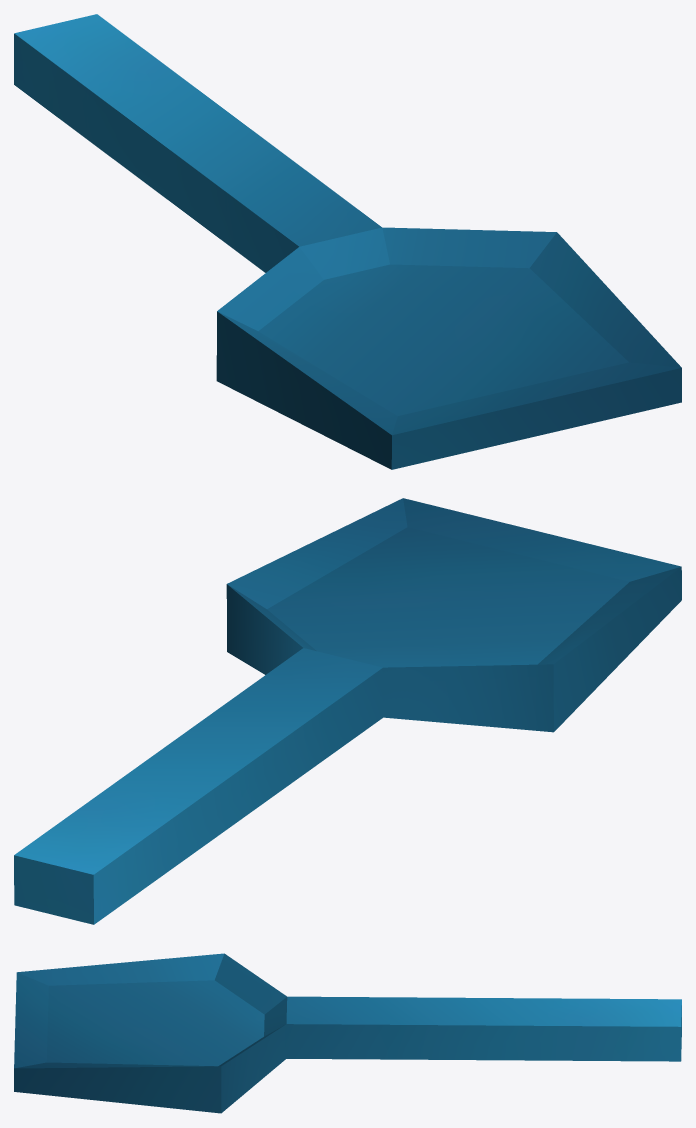
File: Spoon_Blue.fbx
3 views of the same model, one above another, from view 1: azimuth 30°, elevation 25°; view 2: azimuth 150°, elevation 25°; view 3: azimuth 270°, elevation 25° (orthographic). The views are drawn at different scales.
Parts seen in each view (by area): view 1: Spoon_Blue; view 2: Spoon_Blue; view 3: Spoon_Blue.
Part boxes in pixels (x1=…): Spoon_Blue: x1=14, y1=14, x2=681, y2=469; Spoon_Blue: x1=14, y1=498, x2=681, y2=924; Spoon_Blue: x1=14, y1=953, x2=681, y2=1113.
Size of the model in its own units: 22.16 by 4.47 by 55.94.
1 material, 1 textured.
